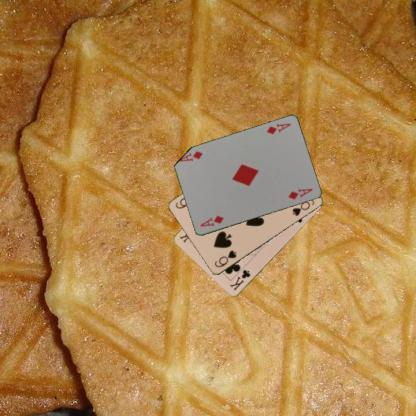6s: (212, 248, 238, 269)
Ad: (264, 121, 292, 136), (198, 213, 224, 228)
Kc: (227, 267, 252, 292)
